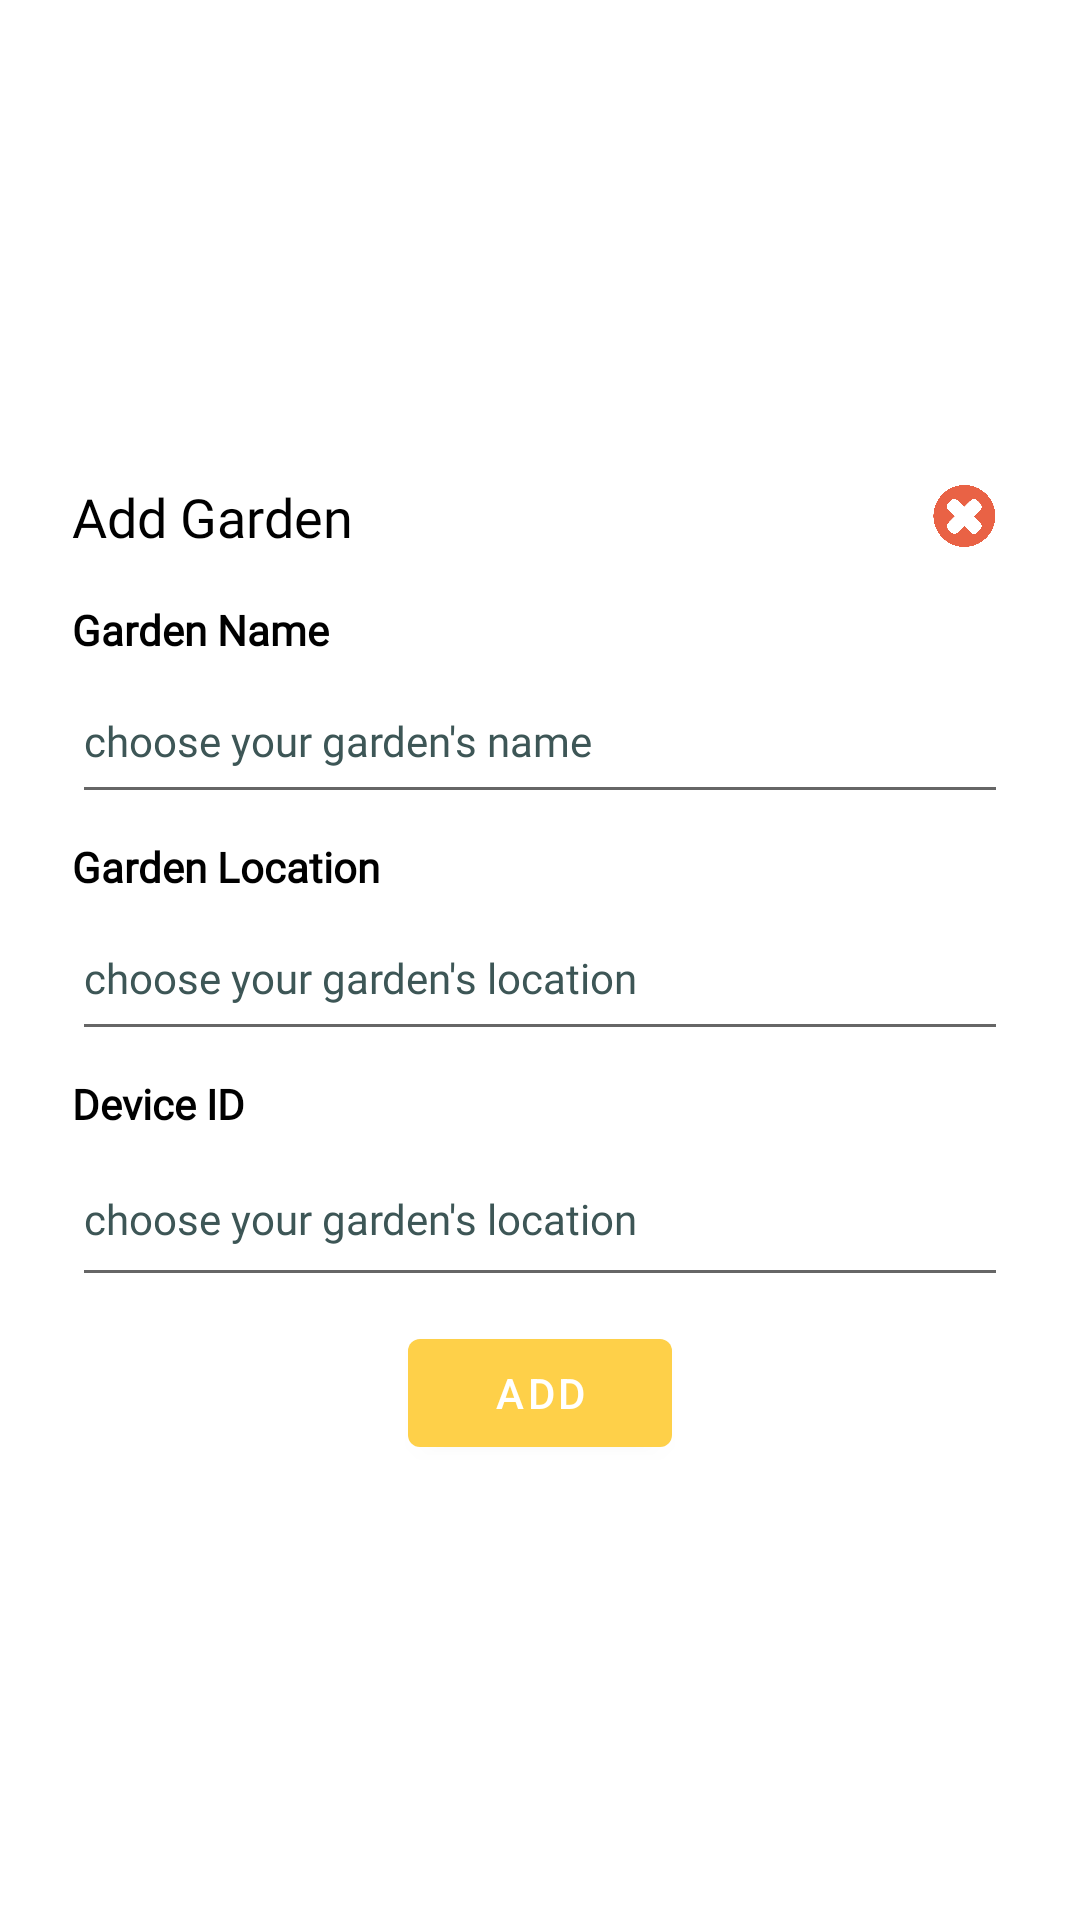

Icon click points for this 1080x1920 phone screenshot, format [x,y]:
close: [964,516]
